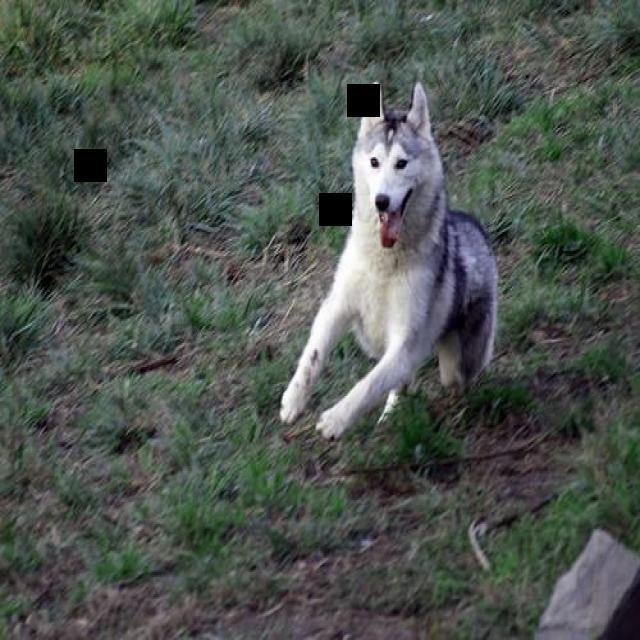adult_dog: (279, 83, 502, 442)
